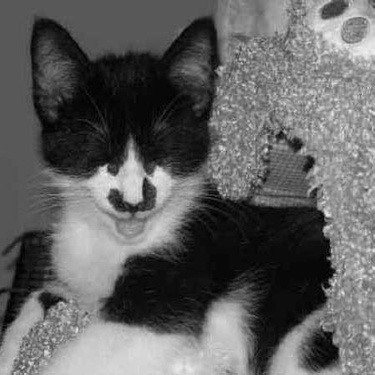cat: (1, 9, 343, 367)
